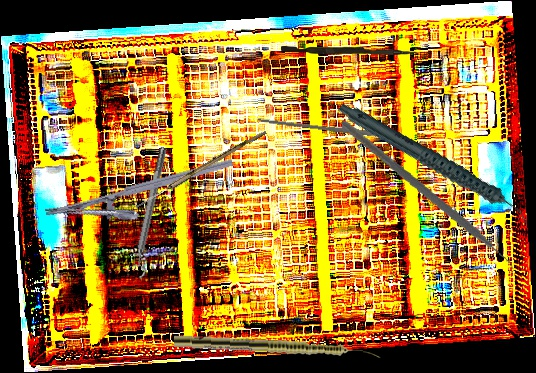Chopper: (323, 120, 531, 284)
Fixation Ring: (124, 145, 175, 280)
Handpiece: (336, 68, 532, 260), (173, 334, 382, 361)
Needle Holder: (44, 157, 241, 243)
Pusher: (281, 46, 418, 55)
Scalpel Handle: (257, 117, 404, 141)
Surgical Spoon: (133, 127, 267, 212)
